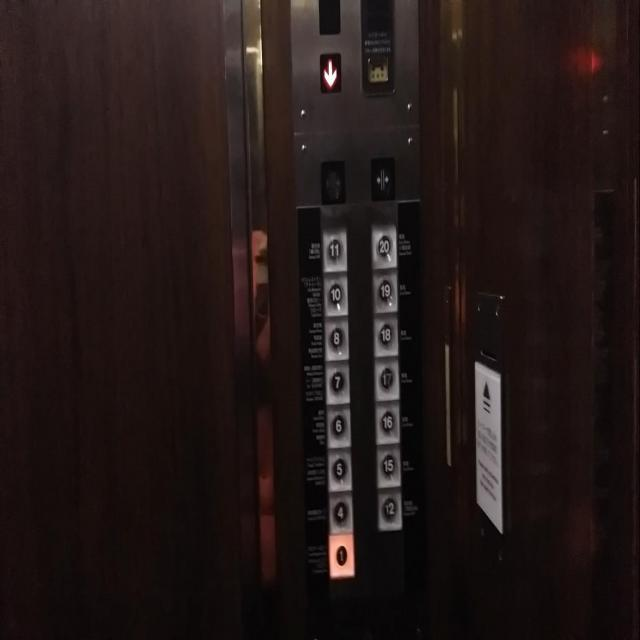1: (328, 532, 354, 578)
10: (322, 272, 348, 316)
11: (321, 226, 347, 272)
12: (377, 488, 402, 530)
15: (376, 442, 400, 487)
16: (374, 399, 400, 444)
17: (373, 356, 400, 400)
18: (372, 313, 399, 357)
19: (371, 268, 398, 312)
20: (371, 222, 396, 269)
4: (328, 491, 353, 532)
5: (326, 448, 352, 491)
6: (326, 404, 350, 449)
7: (324, 359, 349, 404)
8: (322, 315, 348, 359)
blur: (320, 158, 346, 206)
call: (367, 54, 389, 83)
close: (369, 155, 395, 201)
